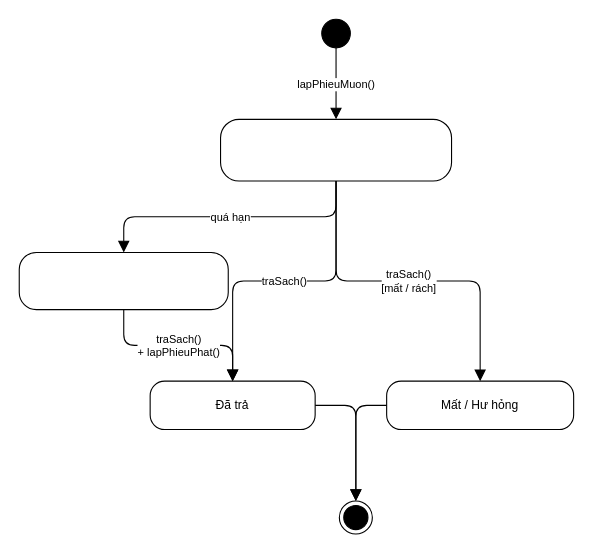
Image size: 593x553. Some labels were removed from this diagram. Each missing label, with the centre of its shape:
"Quá hạn [hôm nay > NgayHenTra]" belongs at (123,280).
"Đang mượn entry/ giảm SoLuongHienCo" belongs at (335,149).
